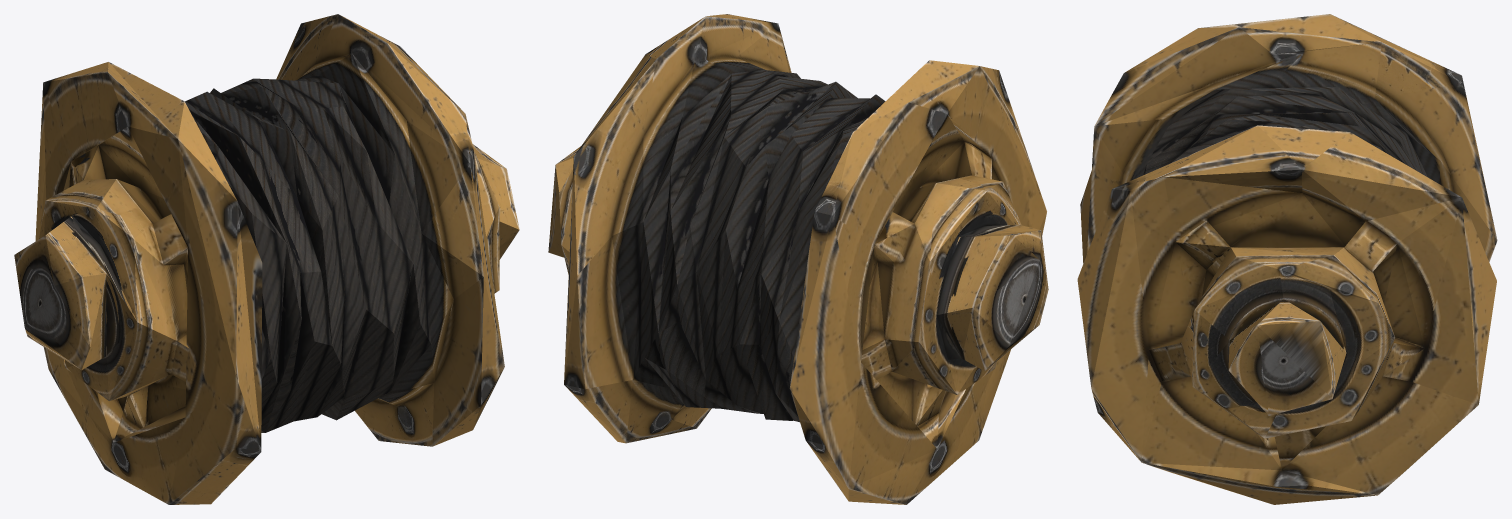
The model's file is lebedka-baraban.glb.
3 renders of one model, left to right at view 1: azimuth 30°, elevation 25°; view 2: azimuth 150°, elevation 25°; view 3: azimuth 270°, elevation 25°, orthographic. The views are drawn at different scales.
Visible parts, largest first — view 1: lebedka-baraban; view 2: lebedka-baraban; view 3: lebedka-baraban.
Boxes of the visible parts, left/top/right/bottom form: lebedka-baraban: left=14, top=14, right=519, bottom=504; lebedka-baraban: left=548, top=14, right=1048, bottom=504; lebedka-baraban: left=1077, top=14, right=1497, bottom=504.
Size of the model in its own units: 0.42 by 0.36 by 0.36.
1 material, 1 textured.
